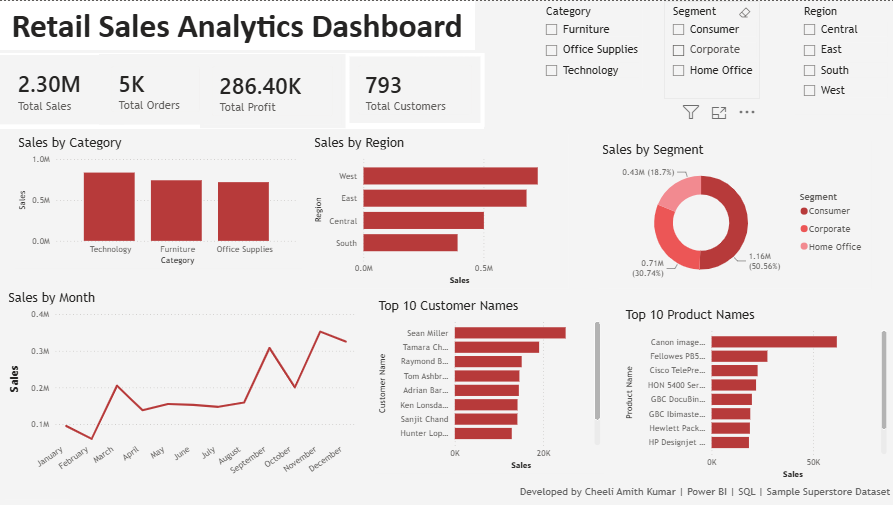

Layout of this report page (visuals, bound fields, positions):
{"tool":"powerbi","page":{"name":"Page 1","canvas":[1280,720],"ordinal":0},"visuals":[{"type":"cardVisual","fields":{"Data":["Sample - Superstore.Total Sales"]},"box":[0,77.7,178,99.3],"z":0,"group":"g1"},{"type":"lineChart","title":"Sales by Month","fields":{"Category":["Sample - Superstore.Order Date.Variation.Date Hierarchy.Month","Sample - Superstore.Order Date.Variation.Date Hierarchy.Day"],"Y":["Sum(Sample - Superstore.Sales)"]},"box":[8.8,411.2,506.2,301.2],"z":0},{"type":"cardVisual","fields":{"Data":["Sample - Superstore.Total Orders"]},"box":[142.7,76.1,162,100.8],"z":1000,"group":"g1"},{"type":"clusteredColumnChart","title":" Sales by Category","fields":{"Category":["Sample - Superstore.Category"],"Y":["Sum(Sample - Superstore.Sales)"]},"box":[23.3,190,410,191.7],"z":1000},{"type":"cardVisual","fields":{"Data":["Sample - Superstore.Total Profit"]},"box":[287.5,76.2,207.5,106.2],"z":2000,"group":"g1"},{"type":"clusteredBarChart","title":"Top 10  Product Names","fields":{"Category":["Sample - Superstore.Product Name"],"Y":["Sum(Sample - Superstore.Sales)"]},"box":[890,435,383.3,251.7],"z":2000},{"type":"cardVisual","fields":{"Data":["Sample - Superstore.Total Customers"]},"box":[495,74.1,197.5,105],"z":3000,"group":"g1"},{"type":"clusteredBarChart","title":" Sales by Region","fields":{"Category":["Sample - Superstore.Region"],"Y":["Sum(Sample - Superstore.Sales)"]},"box":[445,190,367.5,221.2],"z":3000},{"type":"donutChart","title":"Sales by Segment","fields":{"Category":["Sample - Superstore.Segment"],"Y":["Sum(Sample - Superstore.Sales)"]},"box":[857.5,200,388.8,211.2],"z":4000},{"type":"clusteredBarChart","title":"Top 10 Customer Names","fields":{"Category":["Sample - Superstore.Customer Name"],"Y":["Sum(Sample - Superstore.Sales)"]},"box":[536.7,423.3,326.7,251.7],"z":5000},{"type":"slicer","fields":{"Values":["Sample - Superstore.Region"]},"box":[1136.7,0,136.7,161.7],"z":6000},{"type":"slicer","fields":{"Values":["Sample - Superstore.Category"]},"box":[768.8,0,151.2,125],"z":7000},{"type":"slicer","fields":{"Values":["Sample - Superstore.Segment"]},"box":[950,0,136.7,140],"z":8000},{"type":"textbox","box":[0,0,680,70],"z":9000},{"type":"group","id":"g1","title":"Group 1","box":[0,74.1,692.5,108.3],"z":10000},{"type":"textbox","box":[100,686.7,1178.3,26.7],"z":10001}]}

Visuals, with their boxes in screenshot pixels (x1, y1, x2, y2), scaled from the page's 1280x720 canvas onto the 893x505 screenshot:
cardVisual - Sample - Superstore.Total Sales: select_region(0, 54, 124, 124)
"Sales by Month" lineChart: select_region(6, 288, 359, 500)
cardVisual - Sample - Superstore.Total Orders: select_region(100, 53, 213, 124)
" Sales by Category" clusteredColumnChart: select_region(16, 133, 302, 268)
cardVisual - Sample - Superstore.Total Profit: select_region(201, 53, 345, 128)
"Top 10  Product Names" clusteredBarChart: select_region(621, 305, 888, 482)
cardVisual - Sample - Superstore.Total Customers: select_region(345, 52, 483, 126)
" Sales by Region" clusteredBarChart: select_region(310, 133, 567, 288)
"Sales by Segment" donutChart: select_region(598, 140, 869, 288)
"Top 10 Customer Names" clusteredBarChart: select_region(374, 297, 602, 473)
slicer - Sample - Superstore.Region: select_region(793, 0, 888, 113)
slicer - Sample - Superstore.Category: select_region(536, 0, 642, 88)
slicer - Sample - Superstore.Segment: select_region(663, 0, 758, 98)
textbox: select_region(0, 0, 474, 49)
"Group 1" group: select_region(0, 52, 483, 128)
textbox: select_region(70, 482, 892, 500)
